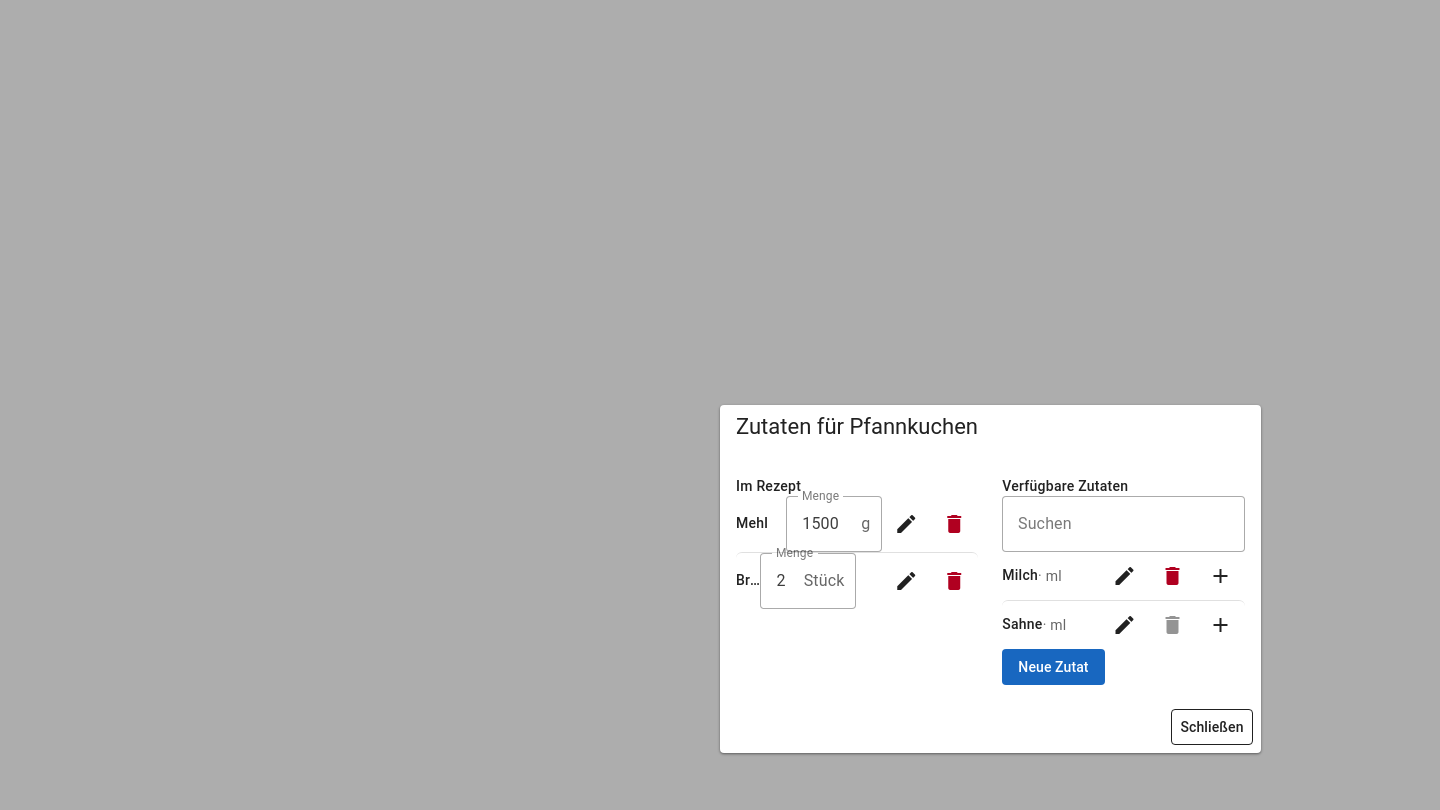
Test case: a recipe amount the admin clears › sets a cleared amount back to 1 and sends 1
Expected: the element with test id "recipe-line" showing "Mehl g Menge" is shown, [736, 496, 978, 552]
Step 1. Clear the 1st field labelled "Menge" → coordinates (824, 524), box [786, 496, 861, 552]
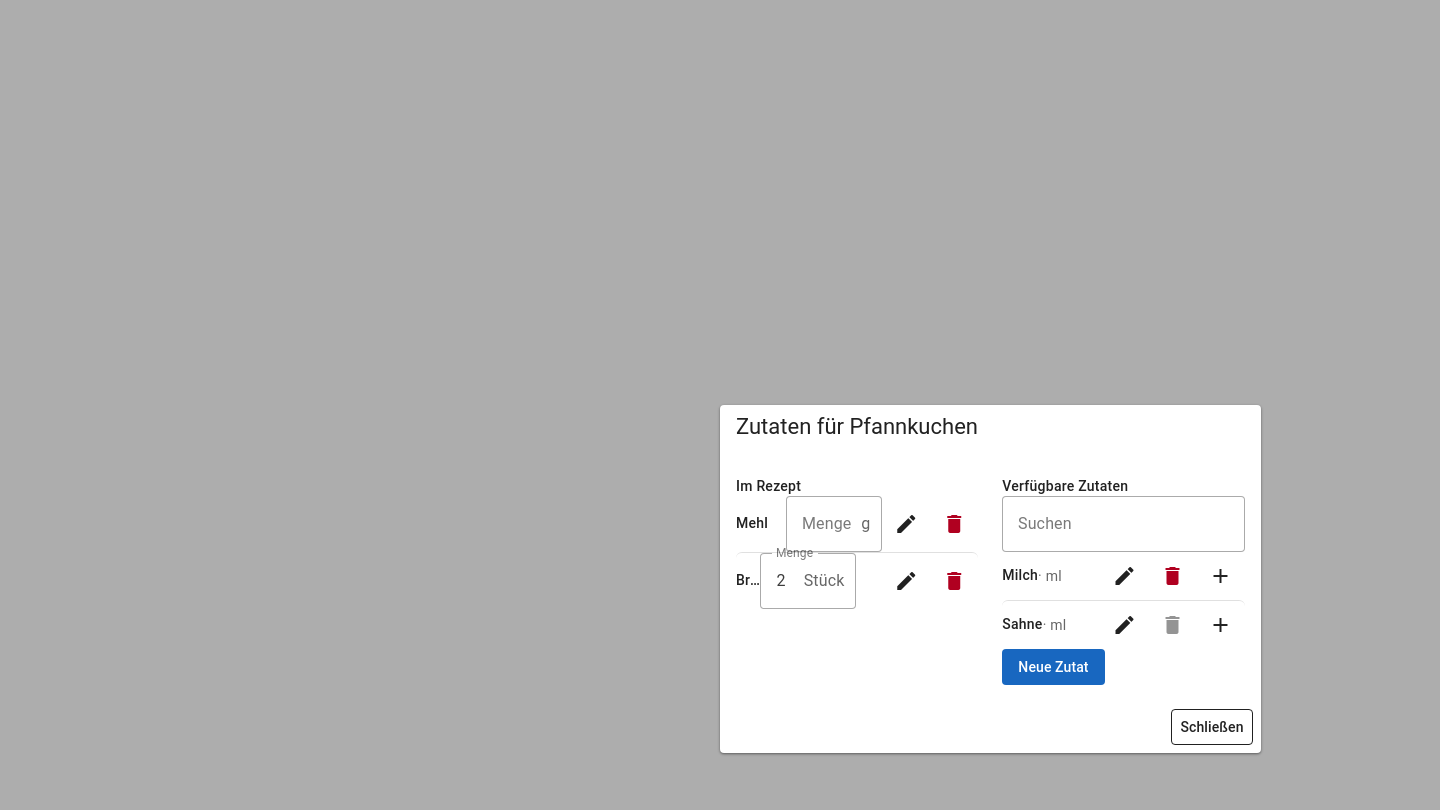
Step 2. Leave the 1st field labelled "Menge", box [786, 496, 861, 552]
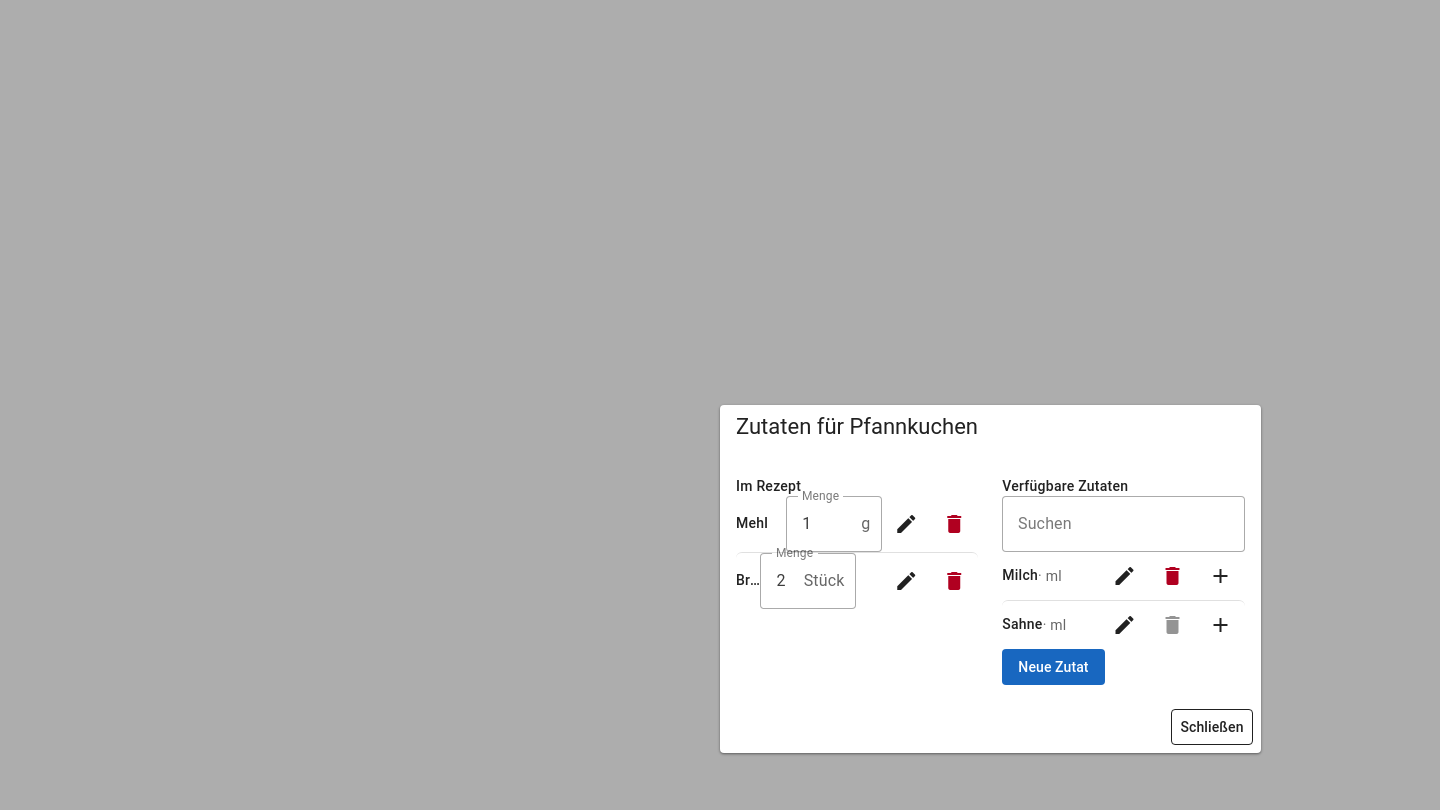
Now the 1st field labelled "Menge" holds "1", box [786, 496, 861, 552]
